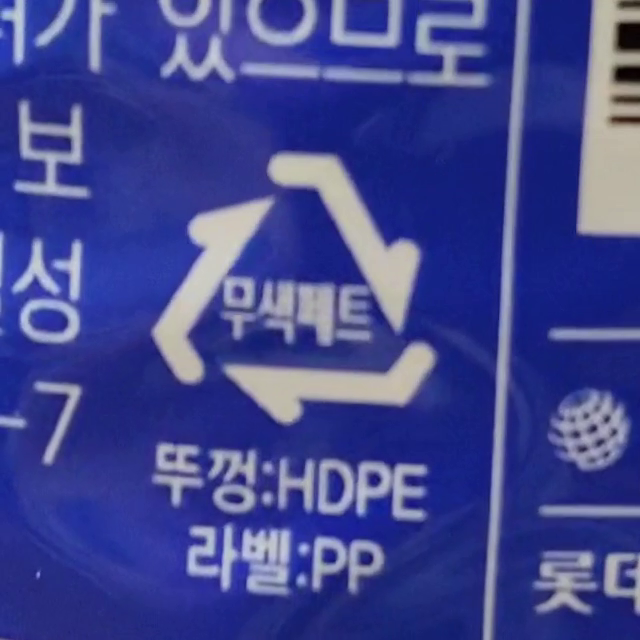ColorlessPet: (147, 151, 443, 426)
